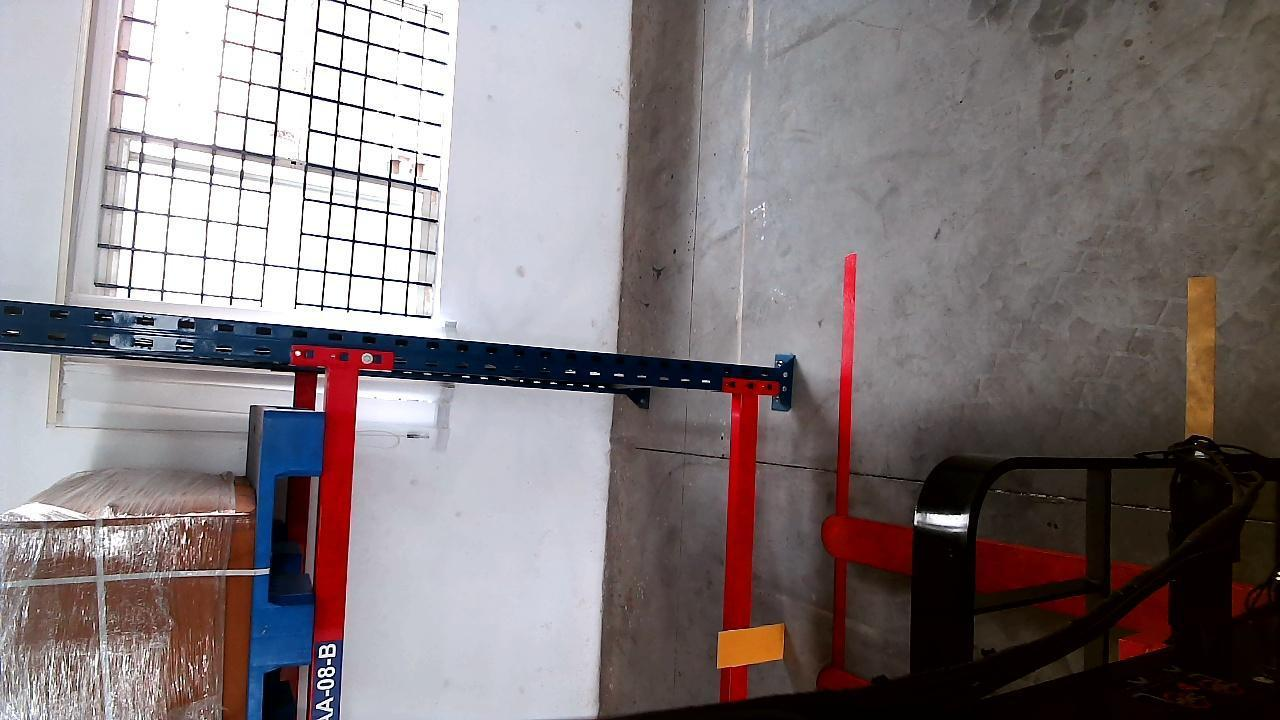h_rack: (311, 370, 360, 720), (725, 388, 756, 701)
orange_strip: (719, 623, 785, 668)
red_line: (823, 243, 862, 711)
small_pallet: (247, 405, 321, 720)
yellow_line: (1186, 274, 1215, 435)
